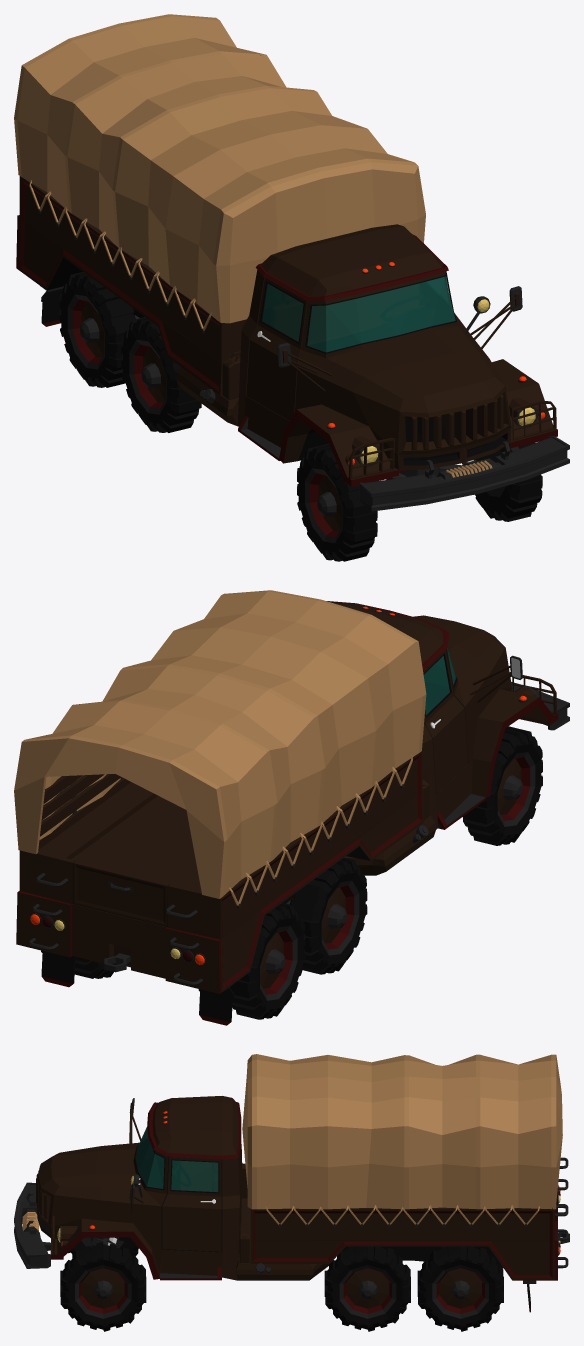
Rendered from MilitaryTruck_01.FBX.
The picture shows the model from 3 angles, top to bottom: view 1: azimuth 30°, elevation 25°; view 2: azimuth 150°, elevation 25°; view 3: azimuth 270°, elevation 25°; orthographic projection. The views are drawn at different scales.
Parts seen in each view (by area): view 1: tarpaulin, MilitaryTruck_01, interior, wheel_f_r, bumper_f, wheel_b2_r, wheel_b1_r, grill, wheel_f_l, lights, jerryCan_r, bumper_b (+1 smaller); view 2: tarpaulin, MilitaryTruck_01, wheel_b1_r, wheel_f_r, wheel_b2_r, bumper_b, interior, mirror_r, bumper_f, wheel_b2_l, lights; view 3: tarpaulin, MilitaryTruck_01, wheel_f_l, wheel_b2_l, wheel_b1_l, interior, bumper_f, lights, jerryCan_02, wheel_f_r, grill.
Part boxes in pixels (bbox=[...]): tarpaulin: bbox=[14, 14, 425, 333]; MilitaryTruck_01: bbox=[16, 55, 557, 486]; interior: bbox=[262, 277, 454, 352]; wheel_f_r: bbox=[297, 443, 377, 561]; bumper_f: bbox=[359, 436, 569, 511]; wheel_b2_r: bbox=[59, 272, 135, 387]; wheel_b1_r: bbox=[121, 317, 201, 432]; grill: bbox=[411, 394, 503, 449]; wheel_f_l: bbox=[475, 443, 542, 521]; lights: bbox=[327, 262, 546, 467]; jerryCan_r: bbox=[222, 351, 240, 399]; bumper_b: bbox=[40, 286, 63, 326]; tarpaulin: bbox=[14, 590, 426, 908]; MilitaryTruck_01: bbox=[16, 601, 558, 993]; wheel_b1_r: bbox=[289, 857, 367, 974]; wheel_f_r: bbox=[463, 726, 542, 845]; wheel_b2_r: bbox=[230, 903, 305, 1019]; bumper_b: bbox=[41, 950, 234, 1025]; interior: bbox=[424, 653, 455, 714]; mirror_r: bbox=[469, 655, 522, 702]; bumper_f: bbox=[511, 681, 569, 730]; wheel_b2_l: bbox=[74, 957, 117, 978]; lights: bbox=[29, 607, 546, 965]; tarpaulin: bbox=[242, 1054, 562, 1227]; MilitaryTruck_01: bbox=[36, 1096, 569, 1280]; wheel_f_l: bbox=[60, 1242, 146, 1331]; wheel_b2_l: bbox=[417, 1246, 503, 1331]; wheel_b1_l: bbox=[324, 1246, 410, 1331]; interior: bbox=[136, 1128, 217, 1191]; bumper_f: bbox=[14, 1182, 50, 1268]; lights: bbox=[60, 1111, 558, 1255]; jerryCan_02: bbox=[239, 1224, 249, 1262]; wheel_f_r: bbox=[68, 1237, 138, 1256]; grill: bbox=[36, 1170, 50, 1219].
Bounding box in the file's own units: 33.18 × 38.29 × 87.11.
